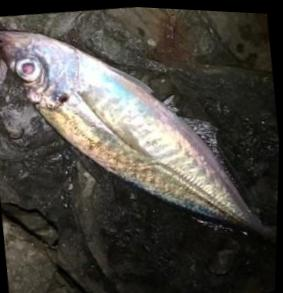fish: (0, 29, 274, 235)
